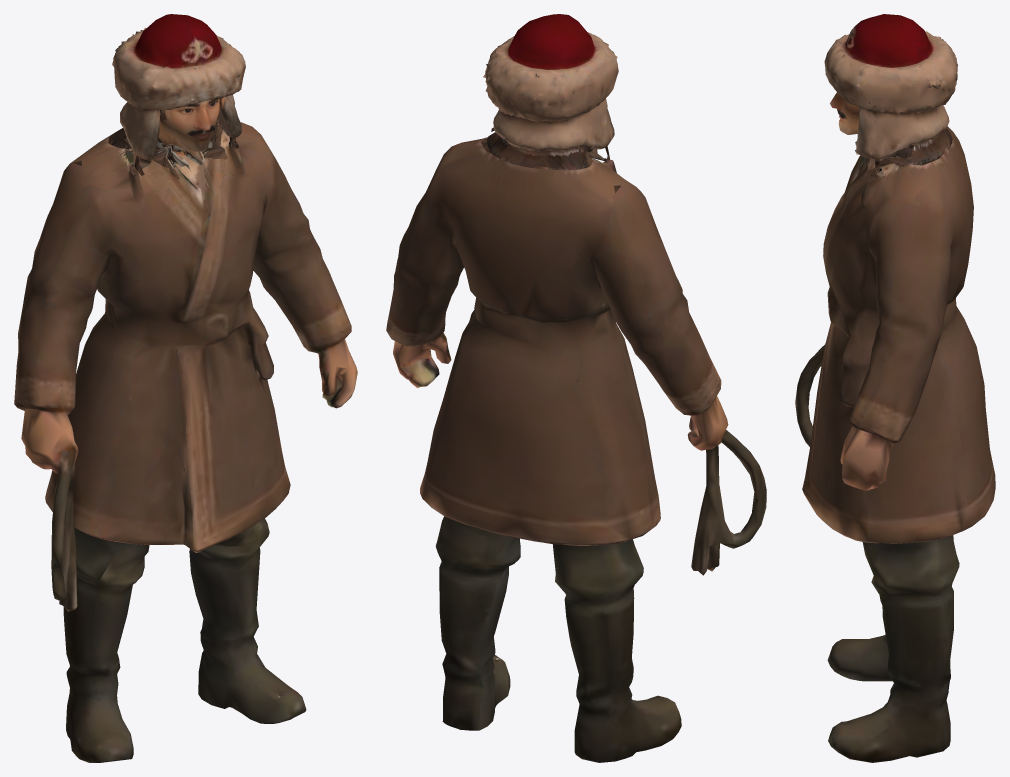
The model's file is herder-dauren.gen.glb.
3 renders of one model, left to right at view 1: azimuth 30°, elevation 25°; view 2: azimuth 150°, elevation 25°; view 3: azimuth 270°, elevation 25°, orthographic.
Visible parts, largest first — view 1: herder-dauren.raw; view 2: herder-dauren.raw; view 3: herder-dauren.raw.
Boxes of the visible parts, x1,y1,x2,y2 form: herder-dauren.raw: (14,14,357,762); herder-dauren.raw: (386,14,766,762); herder-dauren.raw: (795,14,995,762).
Size of the model in its own units: 0.9165 by 1.85 by 0.4826.
1 material, 1 textured.
